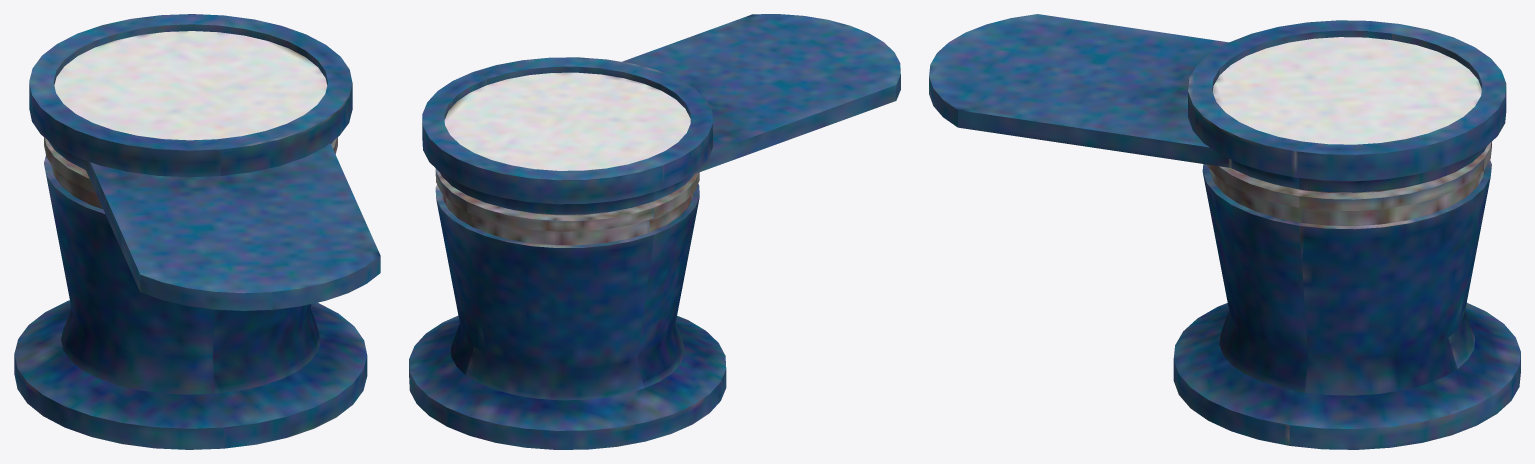
File: stat_table.fbx
The picture shows the model from 3 angles, left to right: view 1: azimuth 30°, elevation 25°; view 2: azimuth 150°, elevation 25°; view 3: azimuth 270°, elevation 25°; orthographic projection. The views are drawn at different scales.
Visible parts, largest first — view 1: Cylinder.004; view 2: Cylinder.004; view 3: Cylinder.004.
Part boxes in pixels (x1,y1,x2,y2): Cylinder.004: (14,14,380,449); Cylinder.004: (409,14,900,449); Cylinder.004: (929,14,1520,449).
Size of the model in its own units: 342 by 266 by 494.
Materials: 1 (1 with a texture image).
